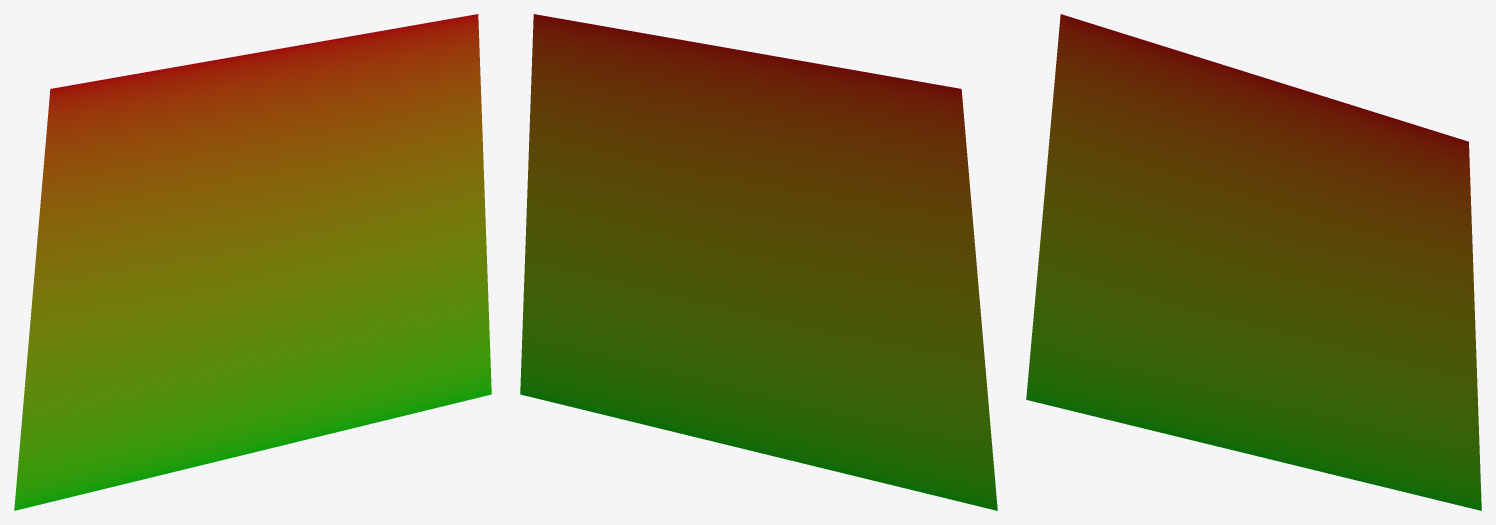
The model's file is Var5_LOD3.fbx.
3 renders of one model, left to right at view 1: azimuth 30°, elevation 25°; view 2: azimuth 150°, elevation 25°; view 3: azimuth 330°, elevation 25°, orthographic. The views are drawn at different scales.
Visible parts, largest first — view 1: _22b0_Var5_LOD3; view 2: _22b0_Var5_LOD3; view 3: _22b0_Var5_LOD3.
Part boxes in pixels (bbox=[...]): _22b0_Var5_LOD3: bbox=[14, 14, 491, 510]; _22b0_Var5_LOD3: bbox=[520, 14, 997, 510]; _22b0_Var5_LOD3: bbox=[1026, 14, 1481, 510].
Size of the model in its own units: 30.78 by 25.45 by 1.97e-06.
